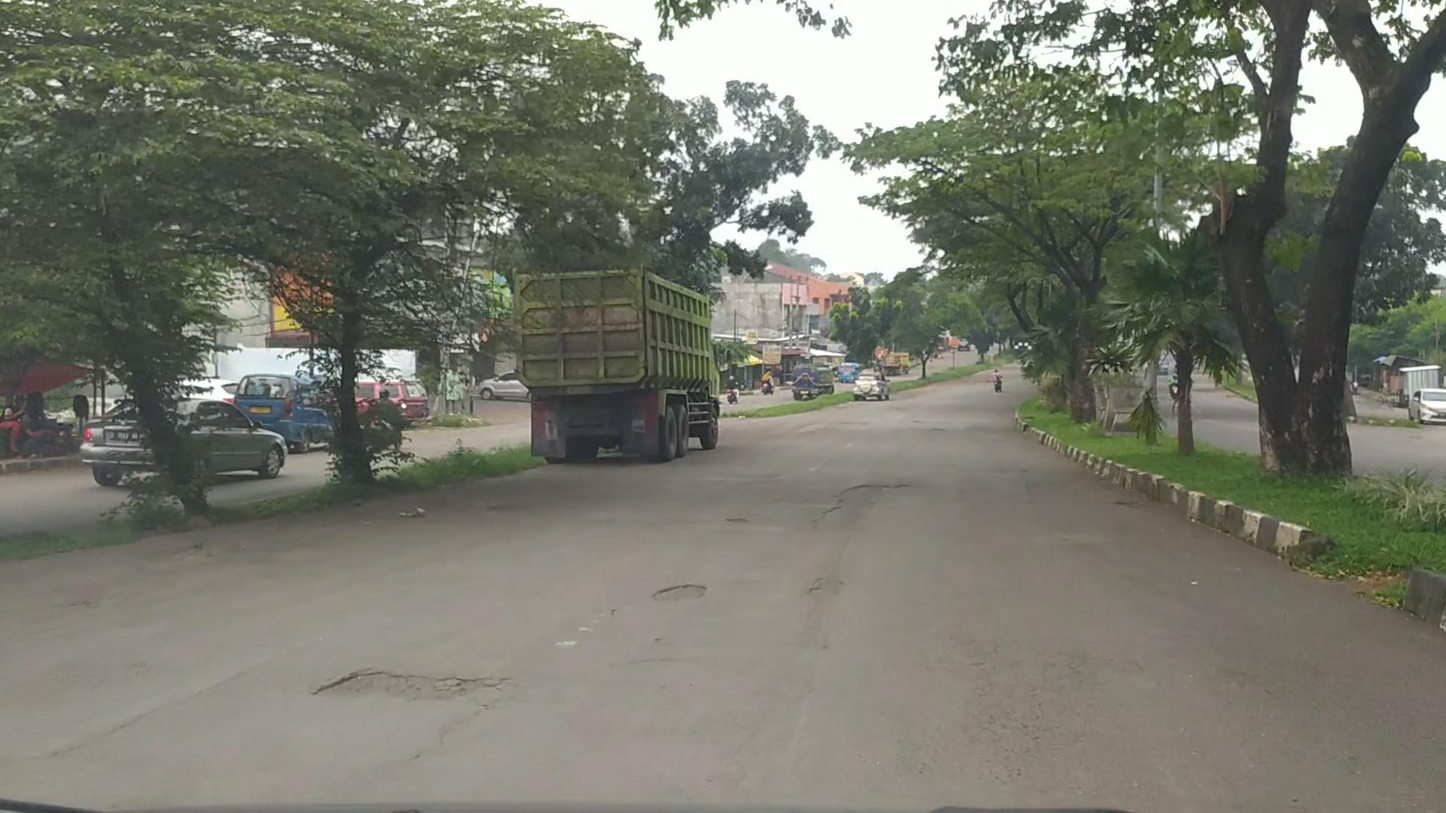pothole: (306, 666, 503, 704), (650, 581, 708, 603)
